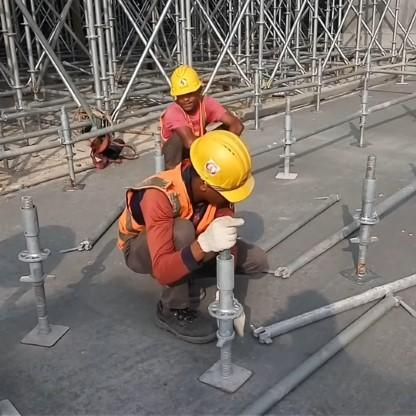helmet: (179, 133, 263, 208), (155, 62, 218, 109)
